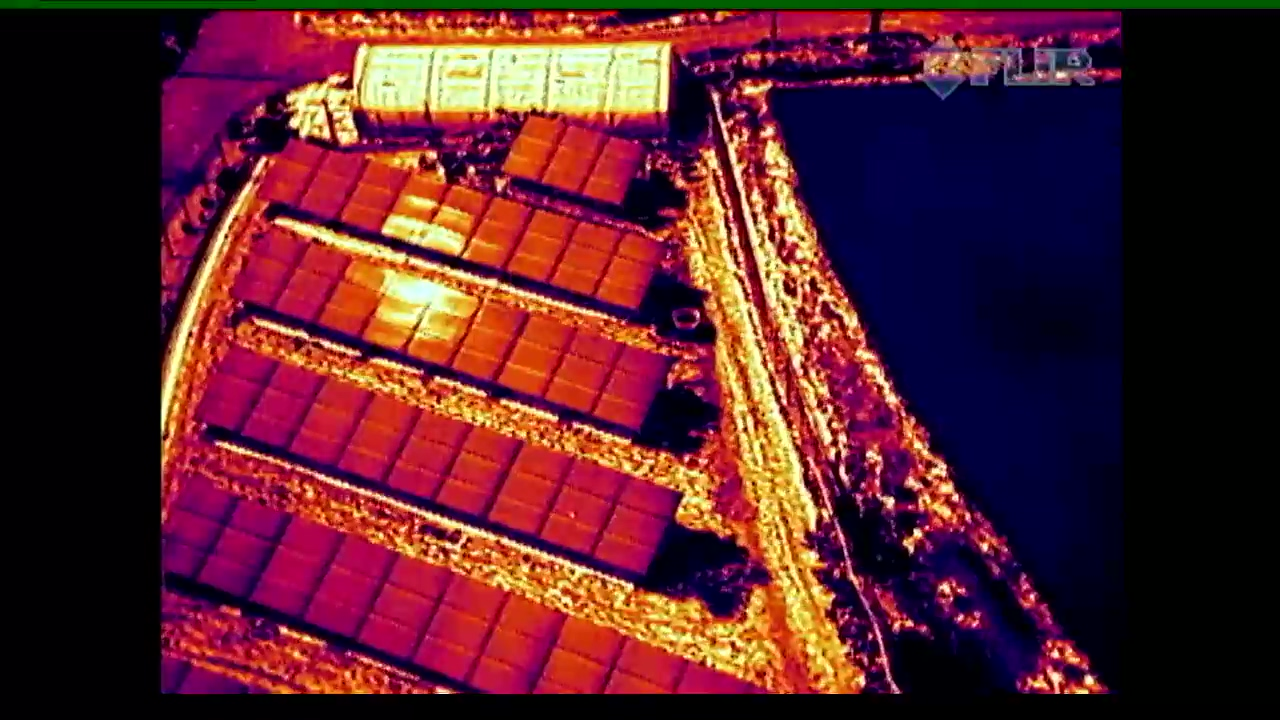hotspot: (537, 460, 629, 556)
